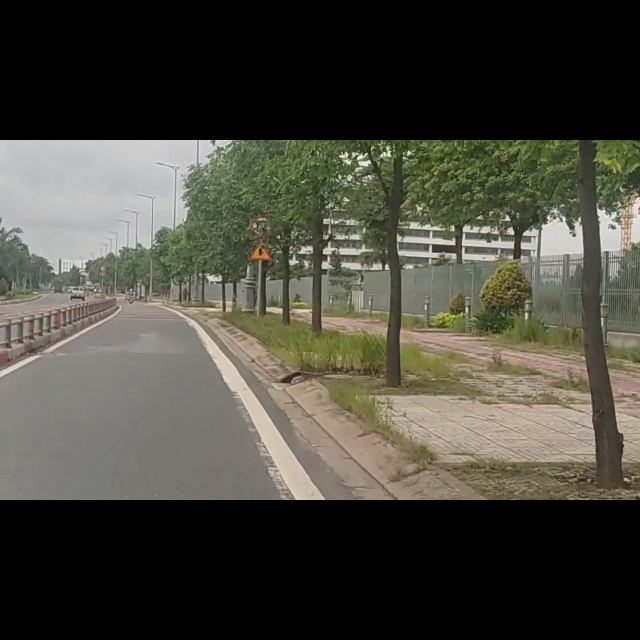bien_nguy_hiem: (248, 186, 272, 216)
